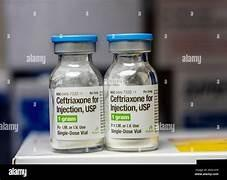Iv_Bottle: (49, 35, 104, 151), (104, 33, 158, 150)
